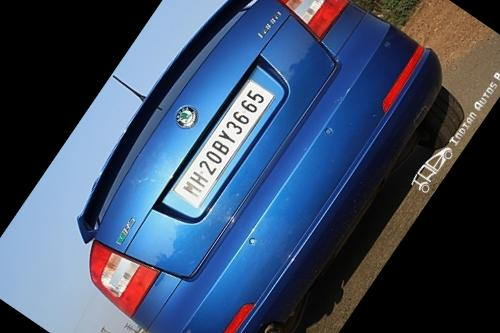plate: (148, 46, 304, 233)
